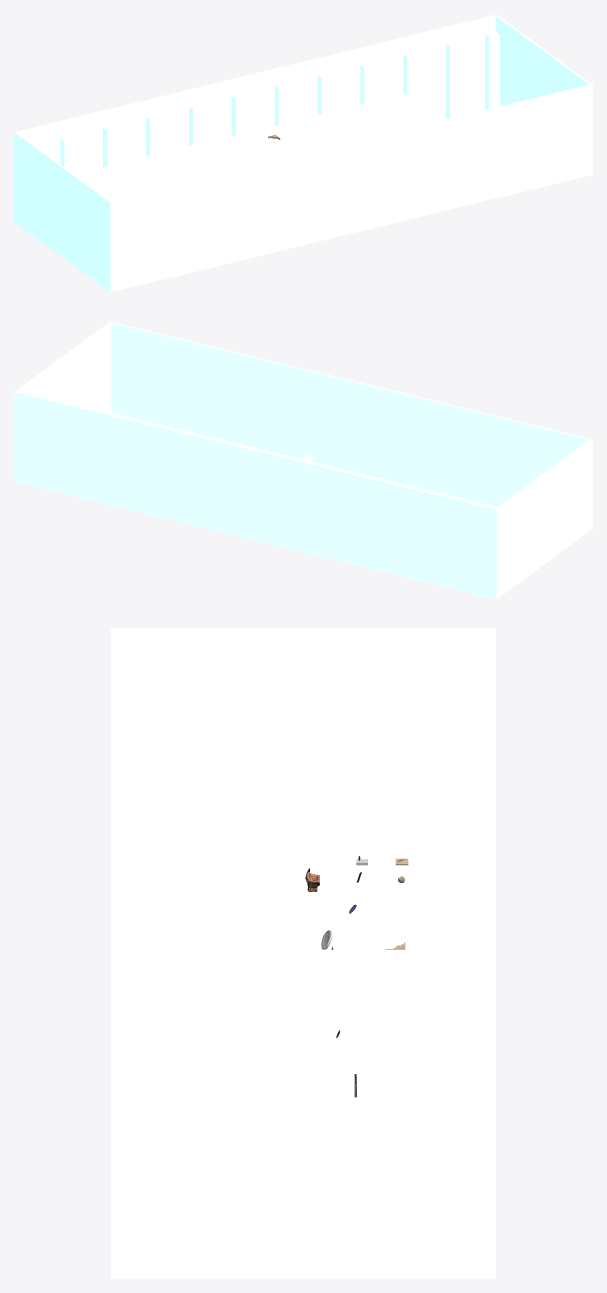
3 views of the same model, one above another, from view 1: azimuth 30°, elevation 25°; view 2: azimuth 150°, elevation 25°; view 3: azimuth 270°, elevation 25° (orthographic). The views are drawn at different scales.
Parts seen in each view (by area): view 1: G-__558777, G-__555564, G-__558768; view 2: G-__558777; view 3: G-__558777, G-__558768, G-__555564, G-__556995, G-__557346.
Boxes of the visible parts, left/top/right/bottom form: G-__558777: left=14, top=14, right=592, bottom=292; G-__555564: left=96, top=127, right=304, bottom=201; G-__558768: left=268, top=85, right=440, bottom=153; G-__558777: left=14, top=321, right=592, bottom=599; G-__558777: left=111, top=628, right=495, bottom=1278; G-__558768: left=278, top=951, right=443, bottom=1097; G-__555564: left=278, top=784, right=443, bottom=951; G-__556995: left=311, top=910, right=393, bottom=949; G-__557346: left=299, top=859, right=409, bottom=909.
Bounding box in the file's own units: 33.78 × 6.01 × 11.68.
Materials: 58 (49 with a texture image).
